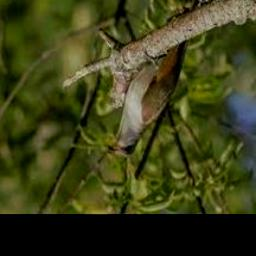Cuckoo: (108, 0, 219, 157)
